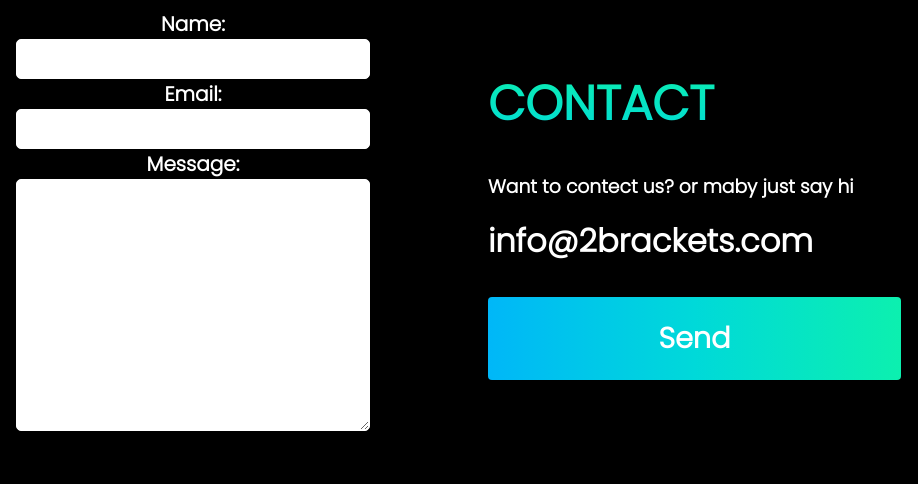
Test case: renders status Message with no name input
This screenshot has width=918, height=484.
Type "test@test.com" into the field with test id "input-email".
click(193, 129); type("test@test.com")  # box 16,109 -> 370,149
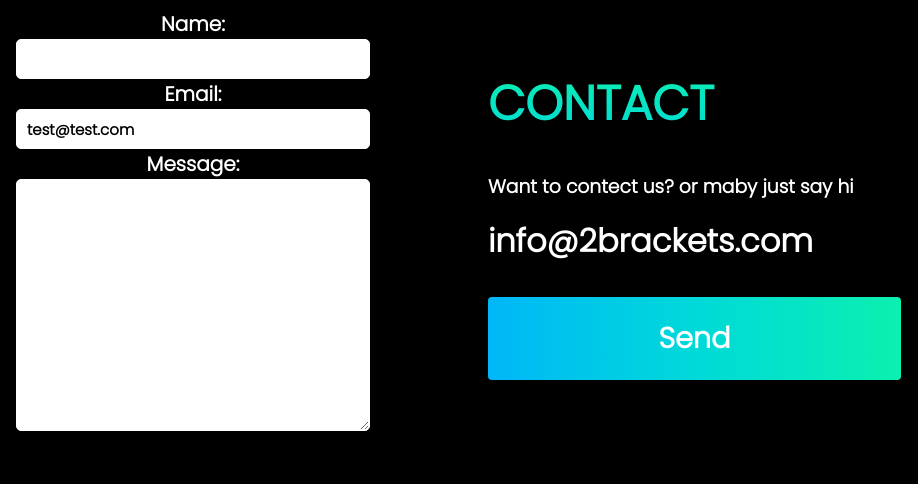
Type "Hi, how are you?" into the text box with test id "input-message".
click(193, 305); type("Hi, how are you?")  # box 16,179 -> 370,431
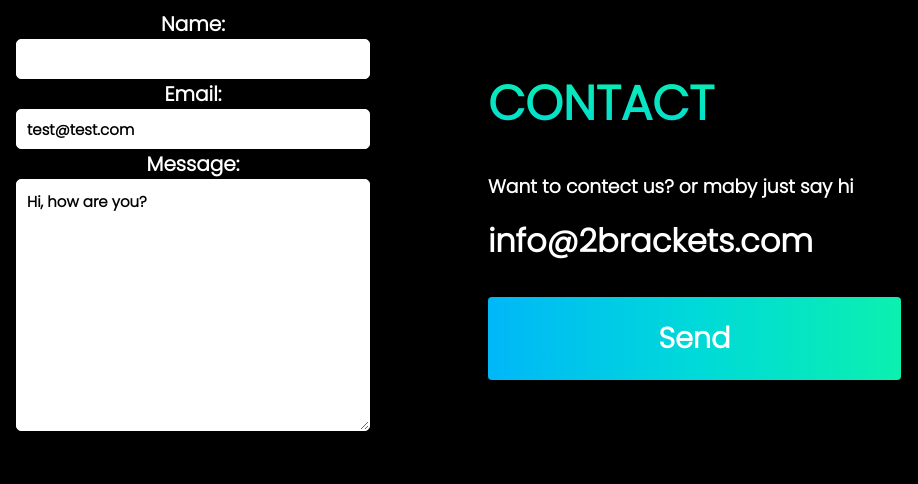
Click the button.
click(694, 338)  # box 488,296 -> 901,380
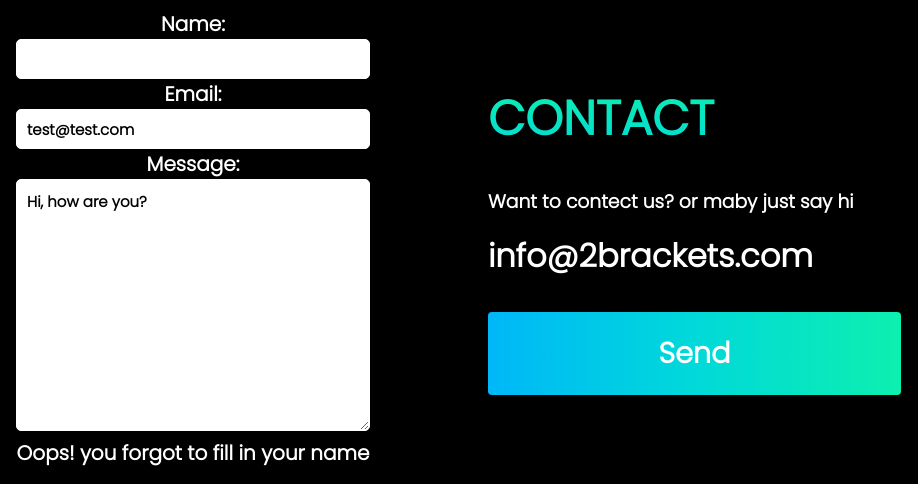
Expected: the text "Oops! you forgot to fill in your name" is shown, 17,439 -> 369,467
